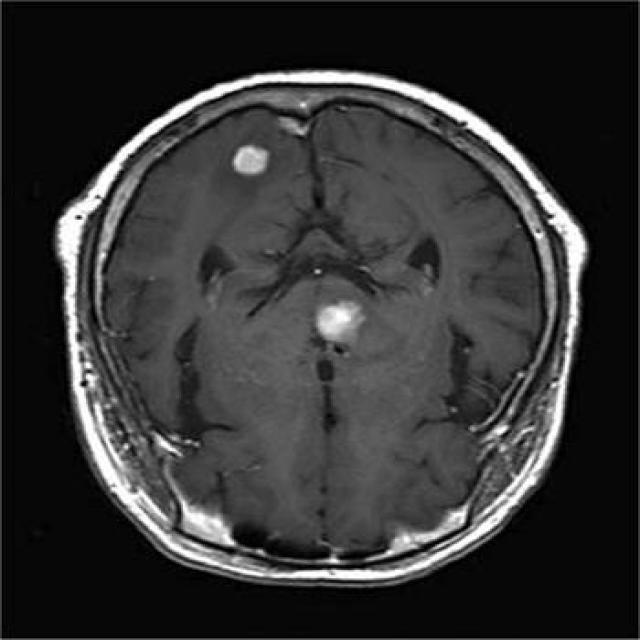notumor: (57, 72, 587, 585)
